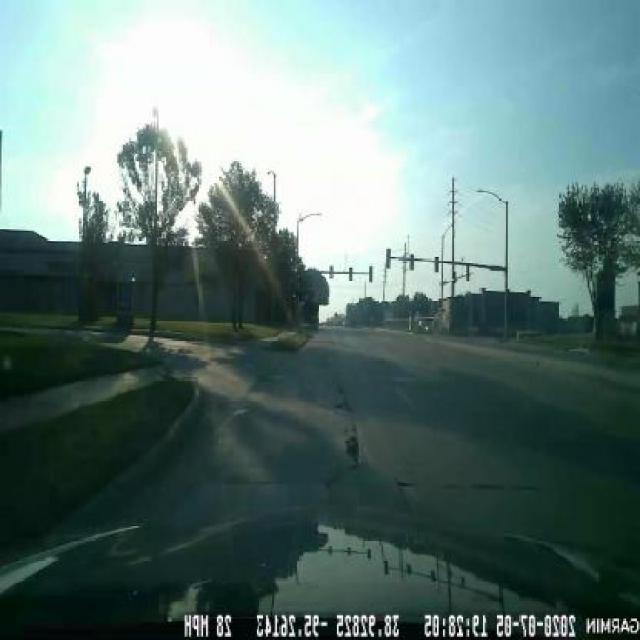pothole: (330, 386, 359, 422), (343, 429, 366, 469)
